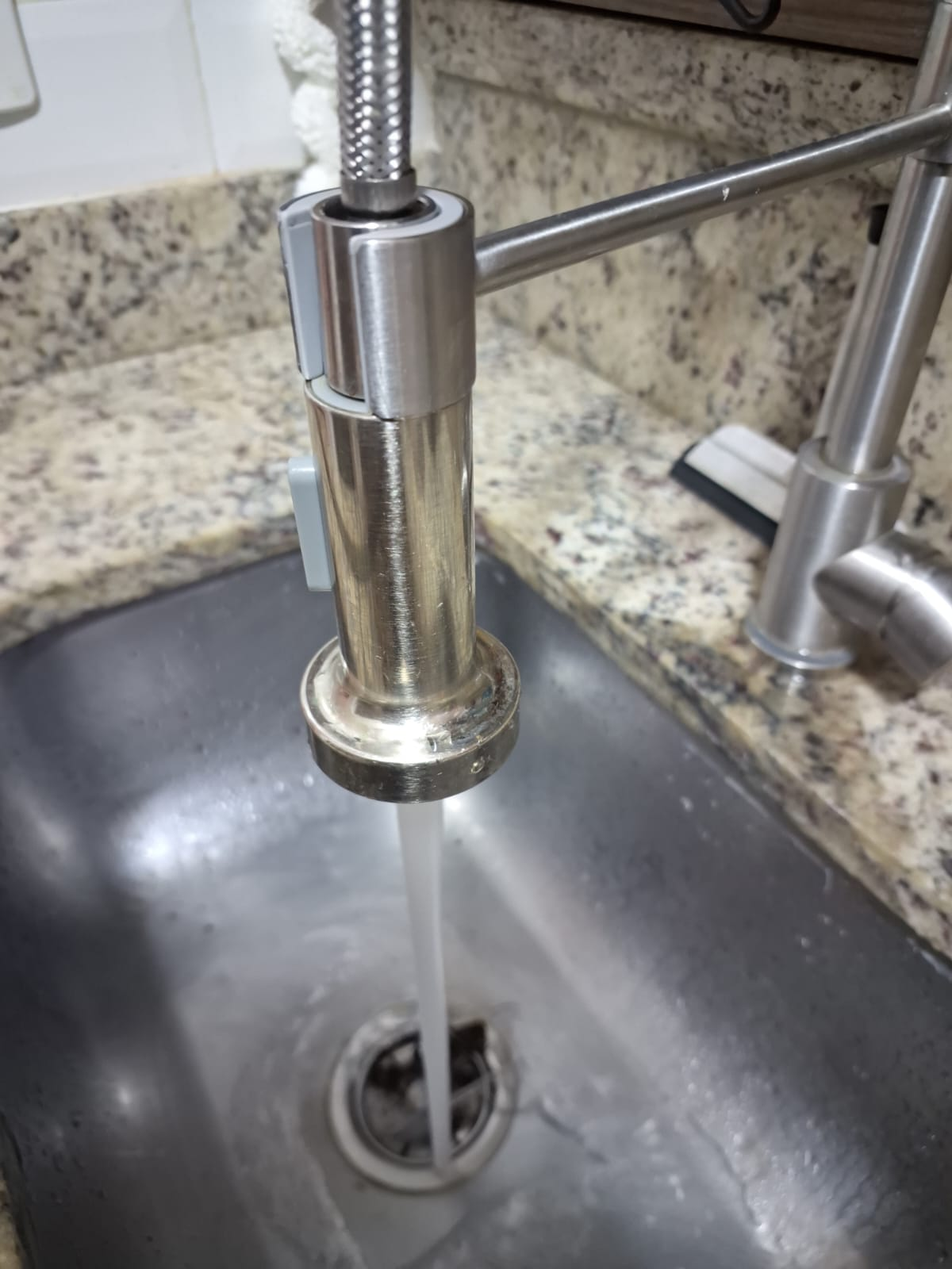torneira_aberta: (81, 160, 952, 1263)
